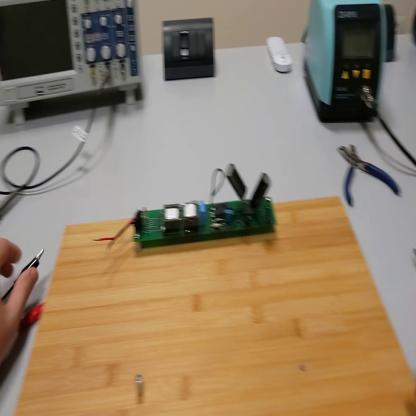hand: (1, 241, 40, 369)
high voltage board: (98, 163, 277, 259)
oscilloscope: (2, 2, 145, 127)
oscilloscope probe tip: (1, 190, 22, 220)
pliers: (340, 141, 402, 212)
socket: (385, 5, 397, 69)
welder station: (302, 3, 388, 128)
working area: (16, 197, 416, 416)
